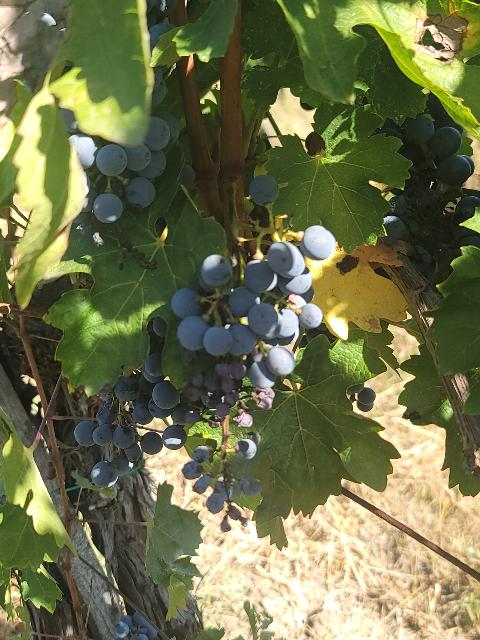grapes: (150, 226, 335, 520), (390, 94, 479, 281), (91, 352, 180, 472)
